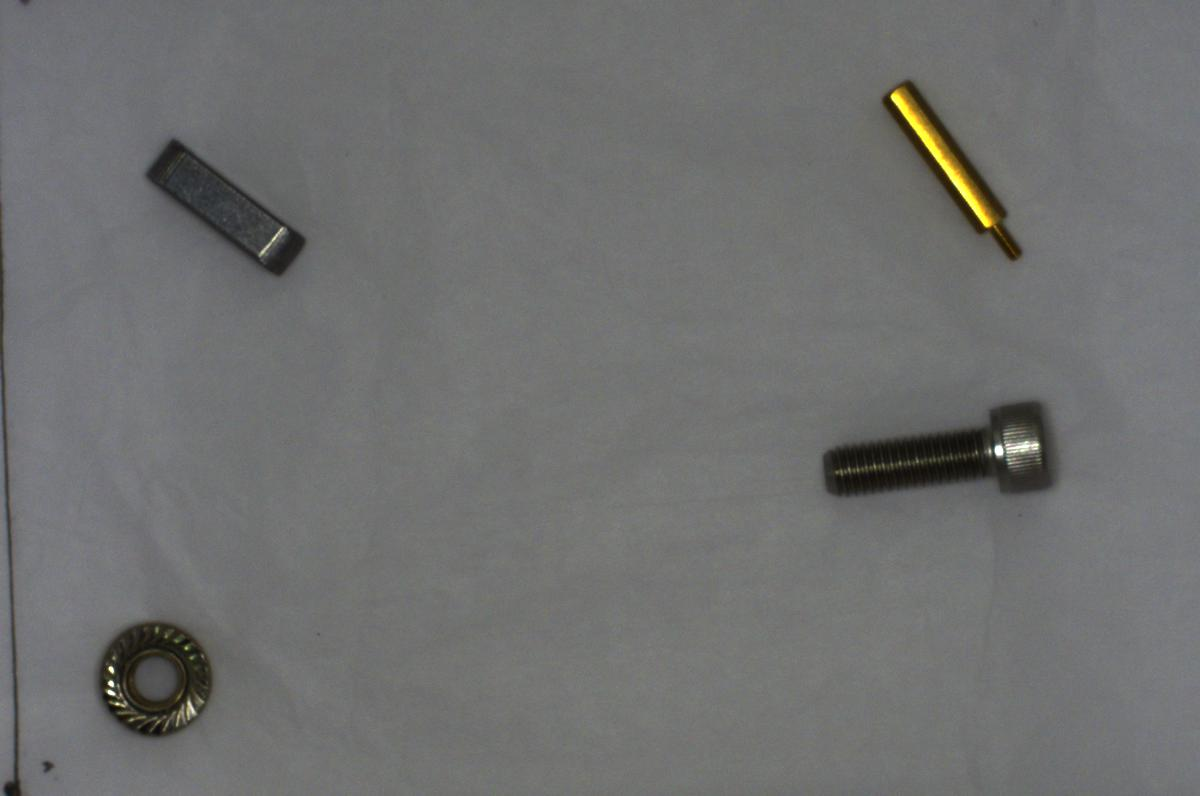Flange nut: (91, 614, 220, 741)
Hexagon pillar: (881, 76, 1028, 262)
Hexagon screw: (807, 394, 1057, 508)
Keybar: (137, 135, 306, 281)
